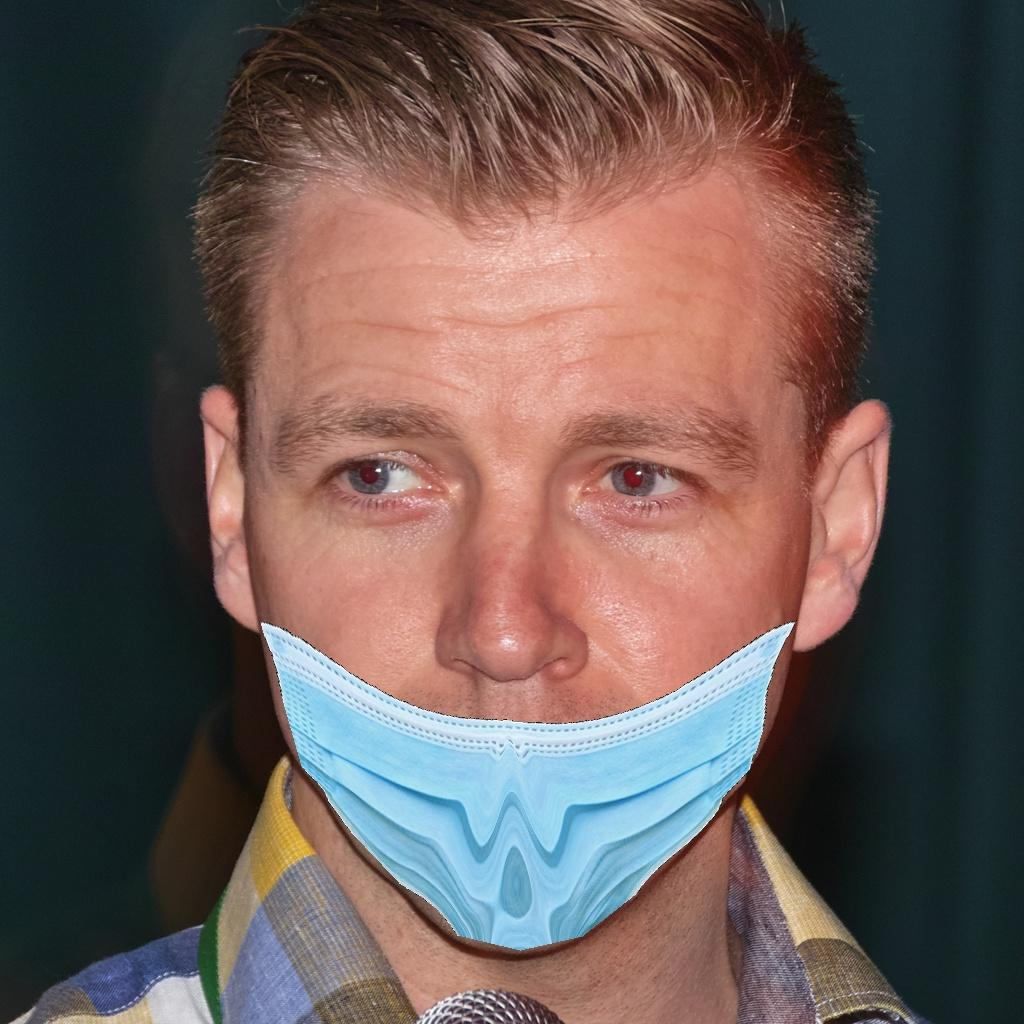Máscara Incorreta: (222, 259, 851, 936)
